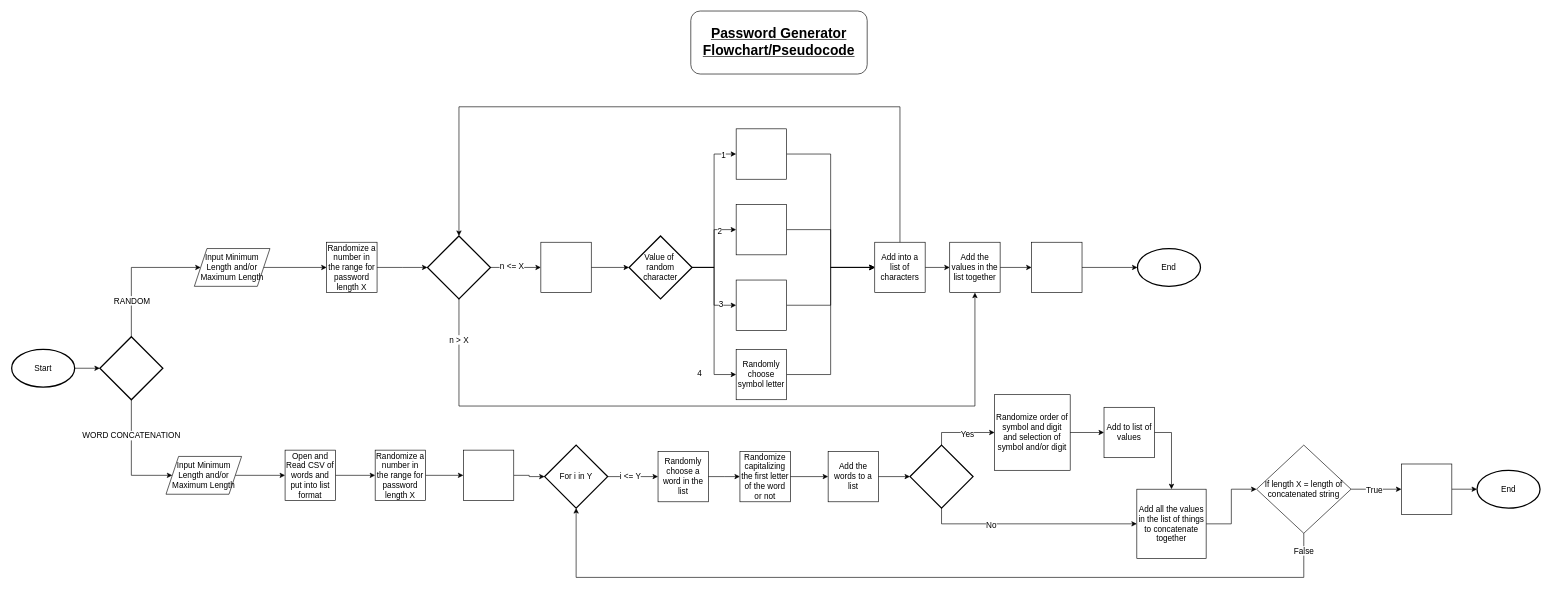
The diagram is 1551 pixels wide and 593 high, and some of its shapes have lost their labels. Each missing label, with the centre of its shape:
"For n = 0 to n = X" belongs at (x=459, y=267).
"Password Type?" belongs at (x=131, y=368).
"Randomize number of words to concatenate (2-3) - Y" belongs at (x=488, y=475).
"Randomly choose digit letter" belongs at (x=761, y=304).
"Randomly choose lowercase letter" belongs at (x=761, y=153).
"Randomly choose uppercase letter" belongs at (x=761, y=229).
"Randomly select a value 1-4" belongs at (x=565, y=267).
"Return final password" belongs at (x=1426, y=488).
"Return final value as password" belongs at (x=1056, y=267).
"Symbol and/or Number?" belongs at (x=941, y=476).
